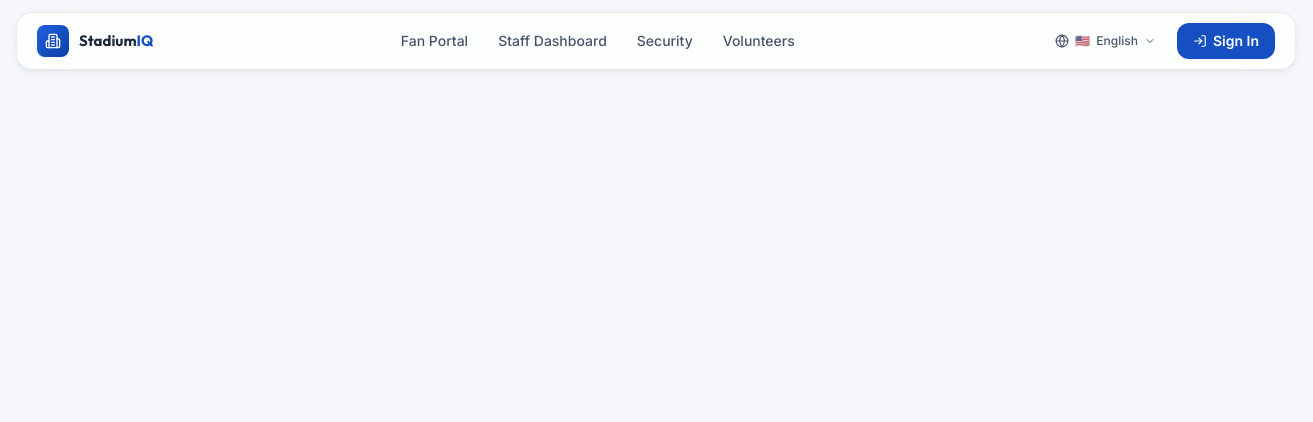
Test: NavigationBar › language selector opens dropdown on click
Click the button with aria-label "Change language": (1106, 41) [1042,23,1169,59]
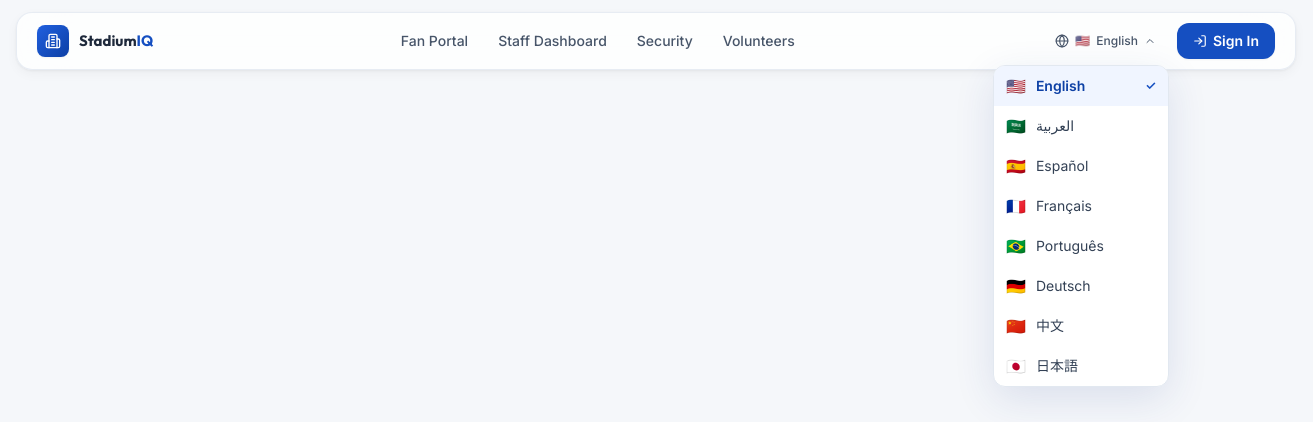
Expected: the list named "Select language" is shown, [993,65,1169,387]
